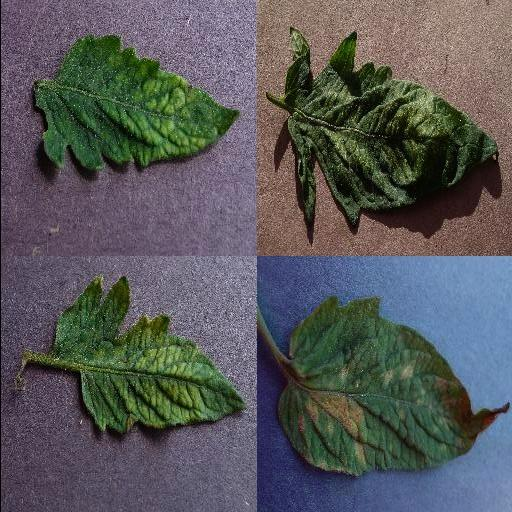Leaf Mold: (277, 295, 509, 478)
Mosaic Virus: (53, 276, 247, 436), (32, 32, 238, 174)
Spider Mites: (283, 29, 501, 223)
